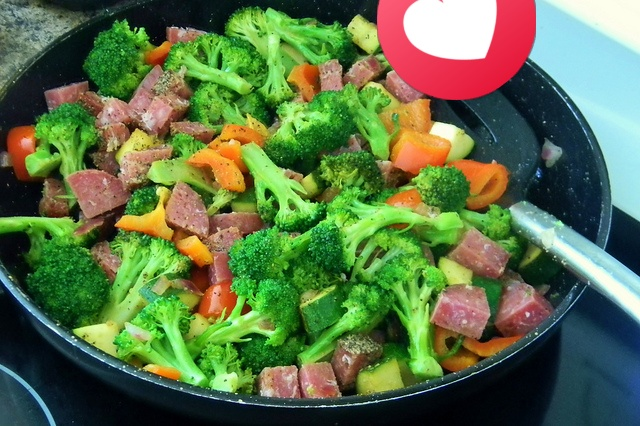love: (377, 0, 536, 100)
